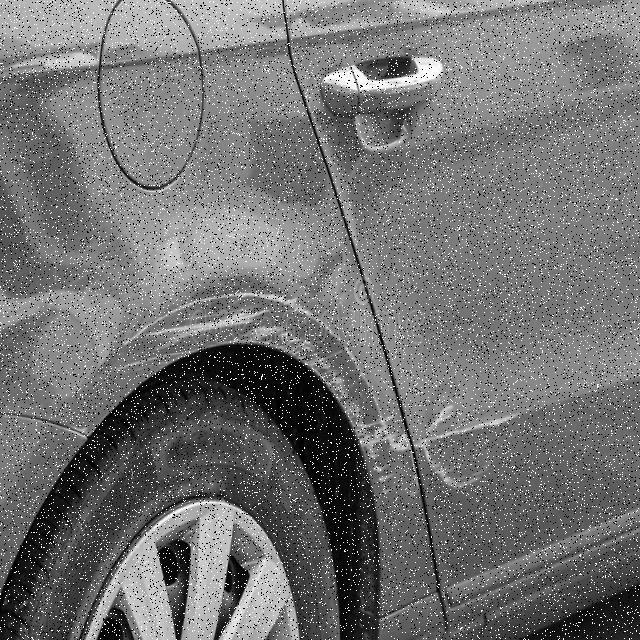doorouter-dent: (401, 1, 640, 536)
quaterpanel-dent: (1, 0, 310, 476), (3, 320, 384, 639)
